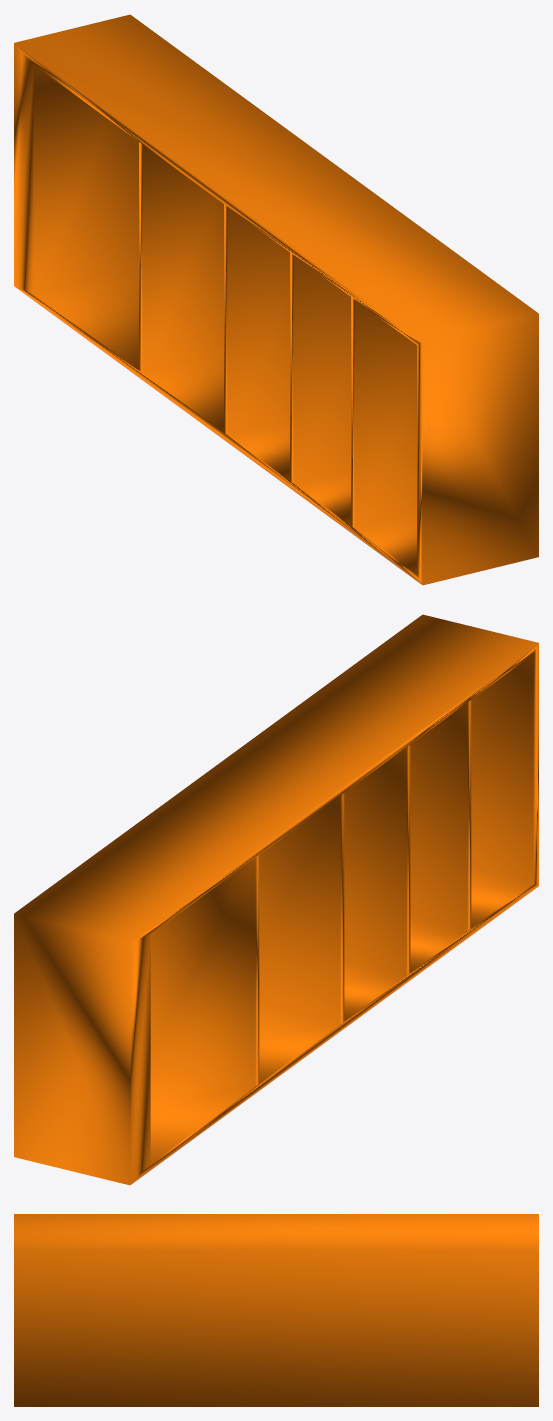
File: bookshelf2.dae
3 views of the same model, one above another, from view 1: azimuth 30°, elevation 25°; view 2: azimuth 150°, elevation 25°; view 3: azimuth 270°, elevation 25° (orthographic). The views are drawn at different scales.
Parts seen in each view (by area): view 1: transform1; view 2: transform1; view 3: transform1.
Boxes of the visible parts, x1,y1,x2,y2 form: transform1: (14, 14, 538, 585); transform1: (14, 614, 538, 1185); transform1: (14, 1214, 538, 1406).
Size of the model in its own units: 0.295 by 0.59 by 1.79.
1 material, 1 textured.
